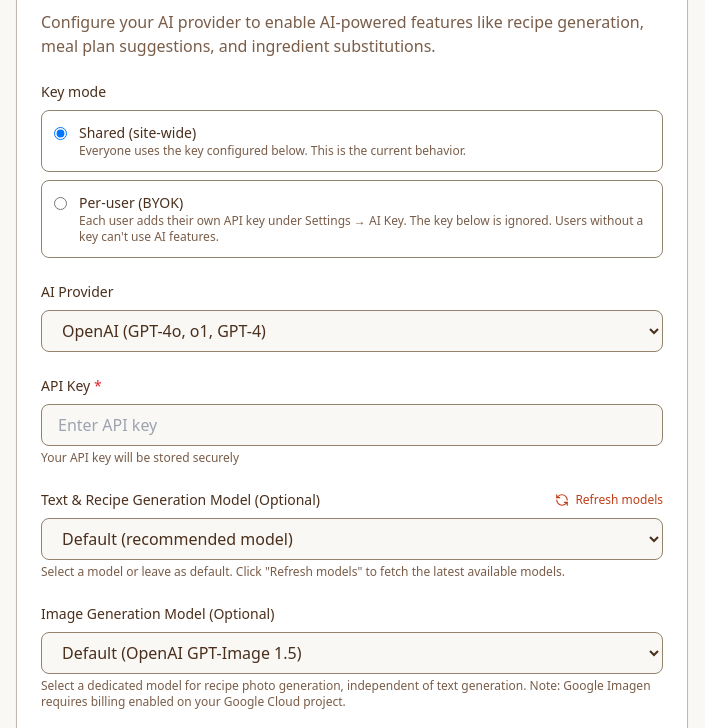
Test: AISettingsPage — OpenRouter (issue #61) › shows the OpenRouter image-key box when an OpenRouter image model is picked under another provider
Expected: the dropdown labelled "AI Provider" is shown, [41,310,663,352]
Note: Stay on OpenAI (default) but type an OpenRouter slug as a custom image model
Select "Custom model (enter manually)..." in the dropdown labelled "Image Generation Model (Optional)": [352, 653] box [41,632,663,674]
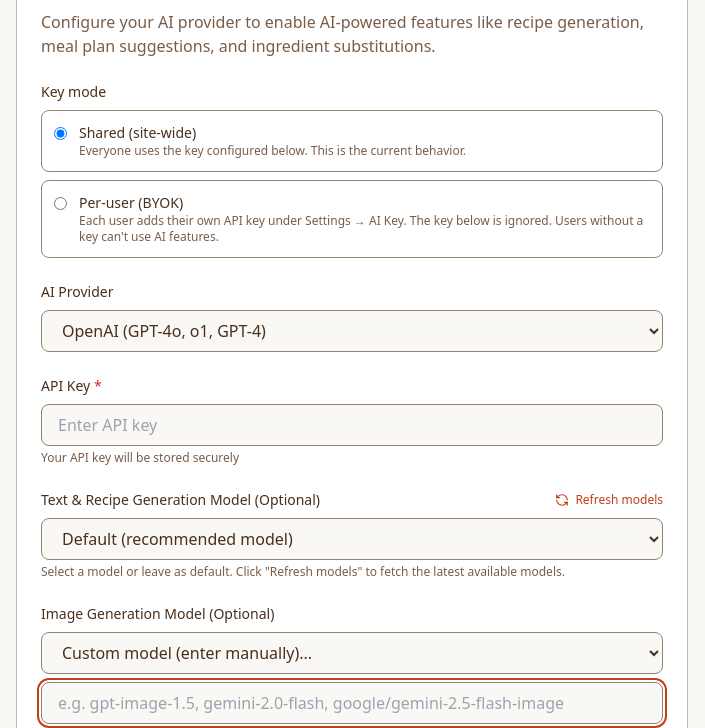
Replace the text in the field with placeholder "gpt-image-1.5, gemini-2.0-flash" with "google/gemini-2.5-flash-image": [352, 703] box [41,682,663,724]
(page scrolled)
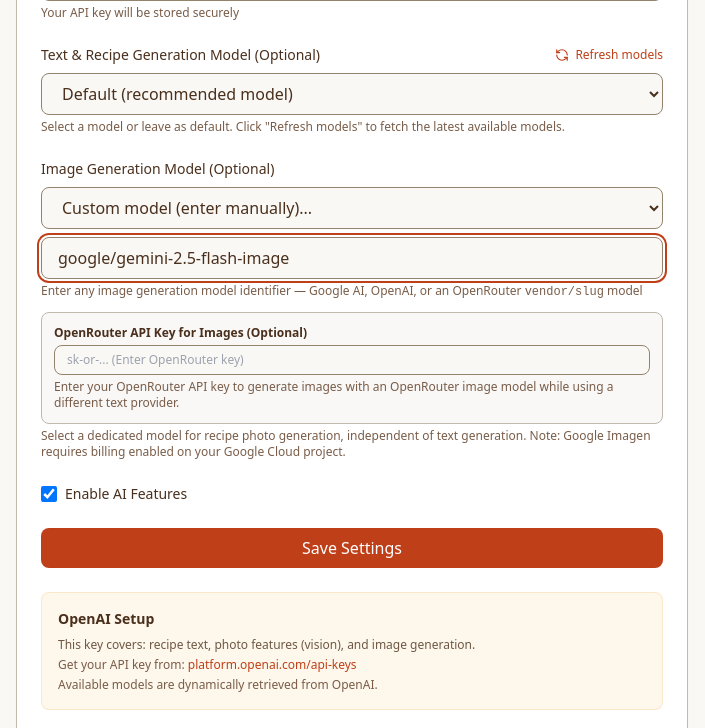
Expected: the text "OpenRouter API Key for Images (Optional)" is shown, [54,324,307,341]
